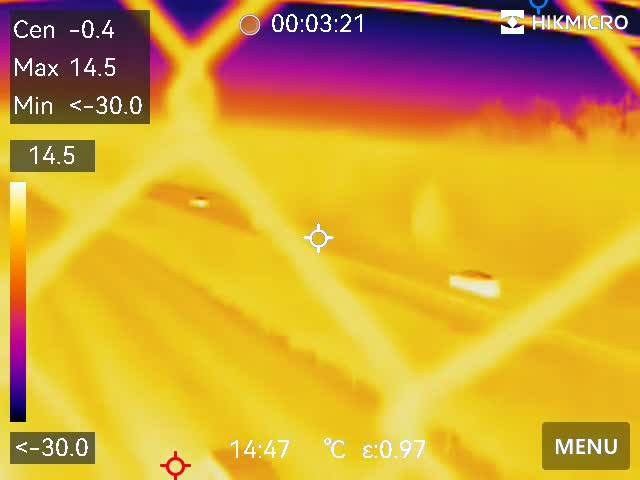vehicle: (443, 261, 503, 296)
